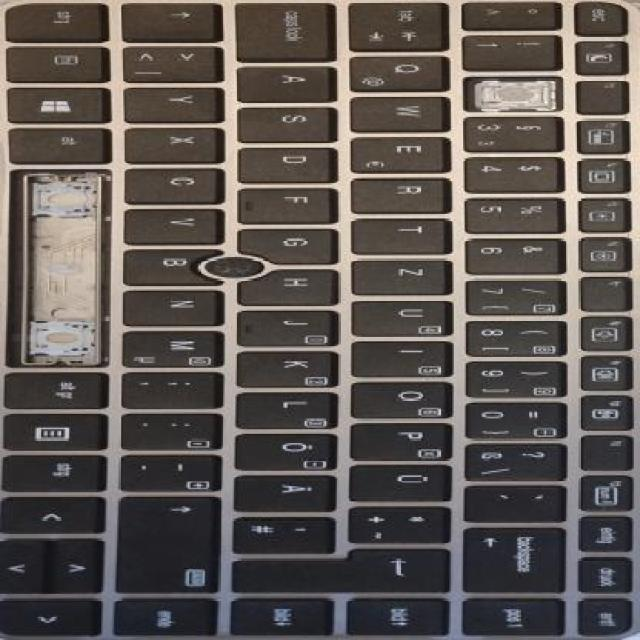Keyboard problems: (20, 171, 109, 365), (465, 77, 563, 111)
